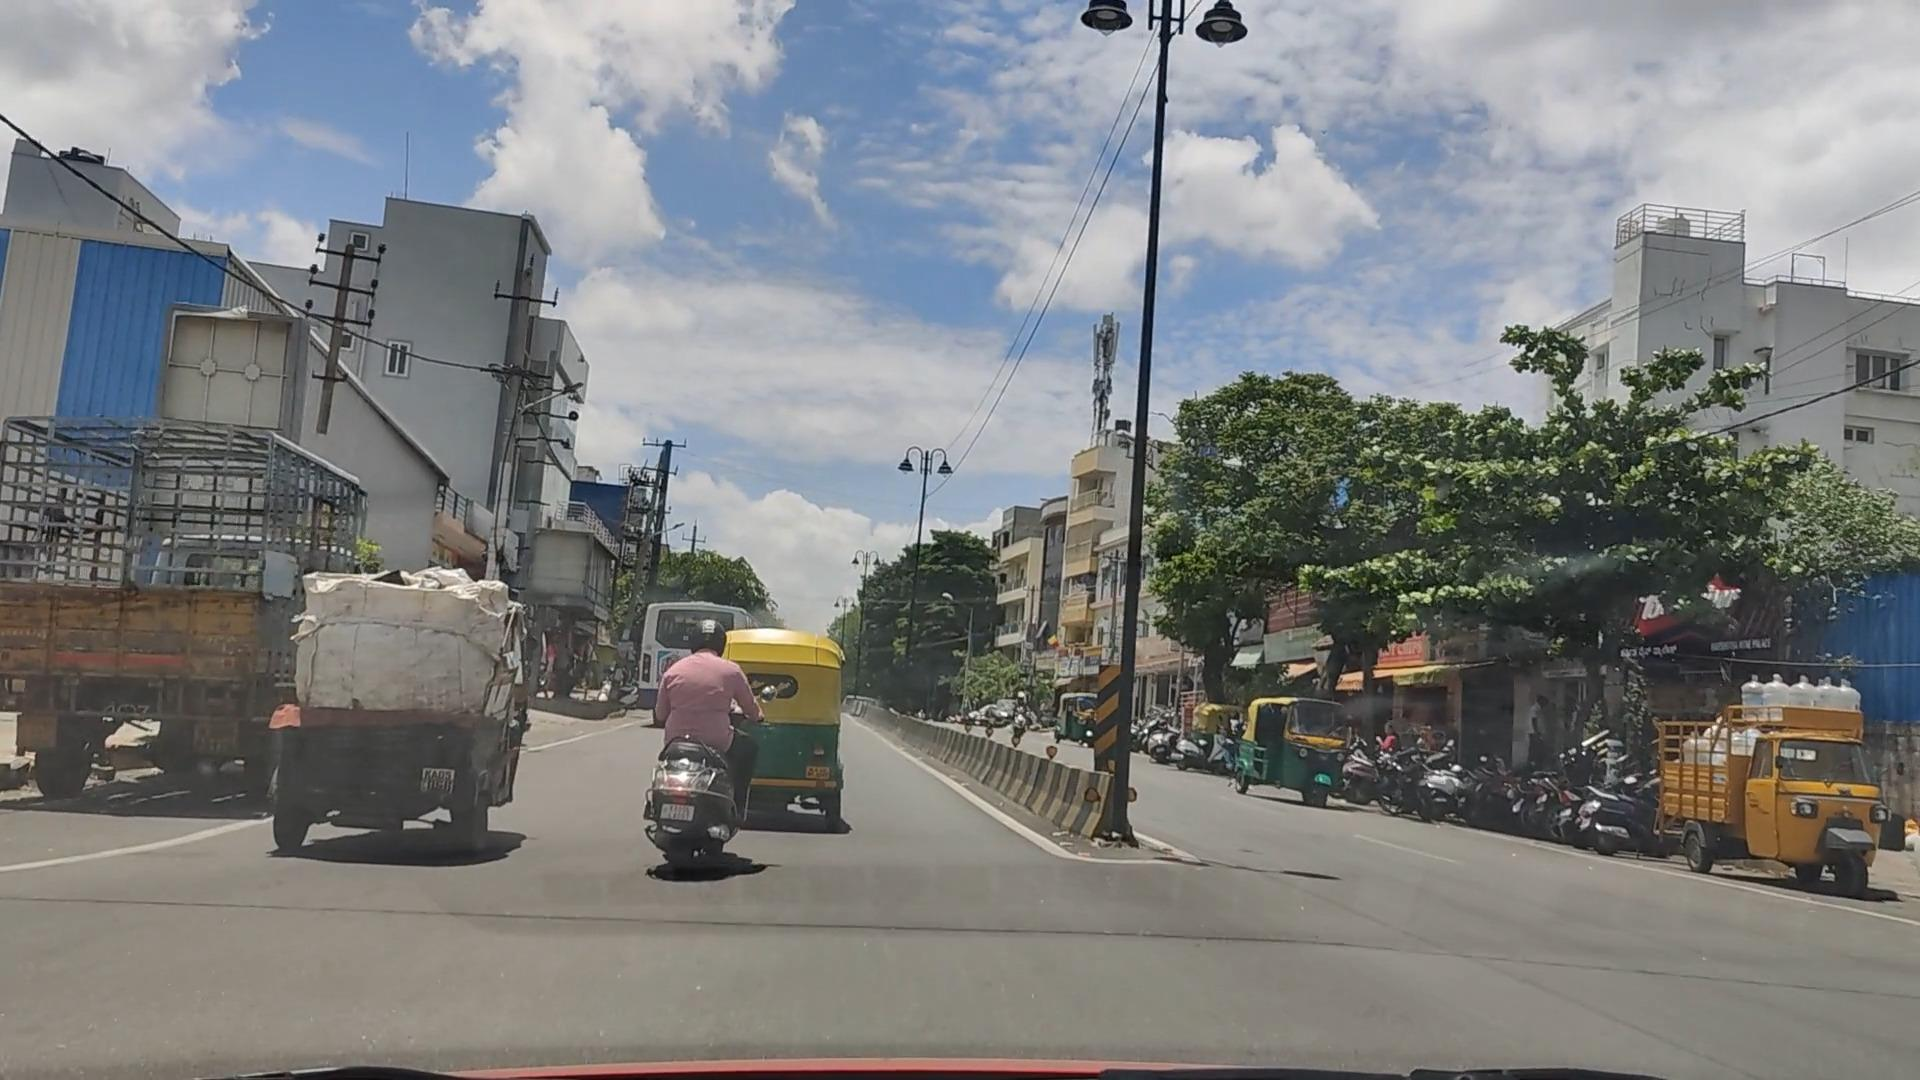HMV: (0, 418, 285, 785)
LMV: (306, 566, 527, 873), (625, 608, 764, 910), (686, 658, 851, 806)
